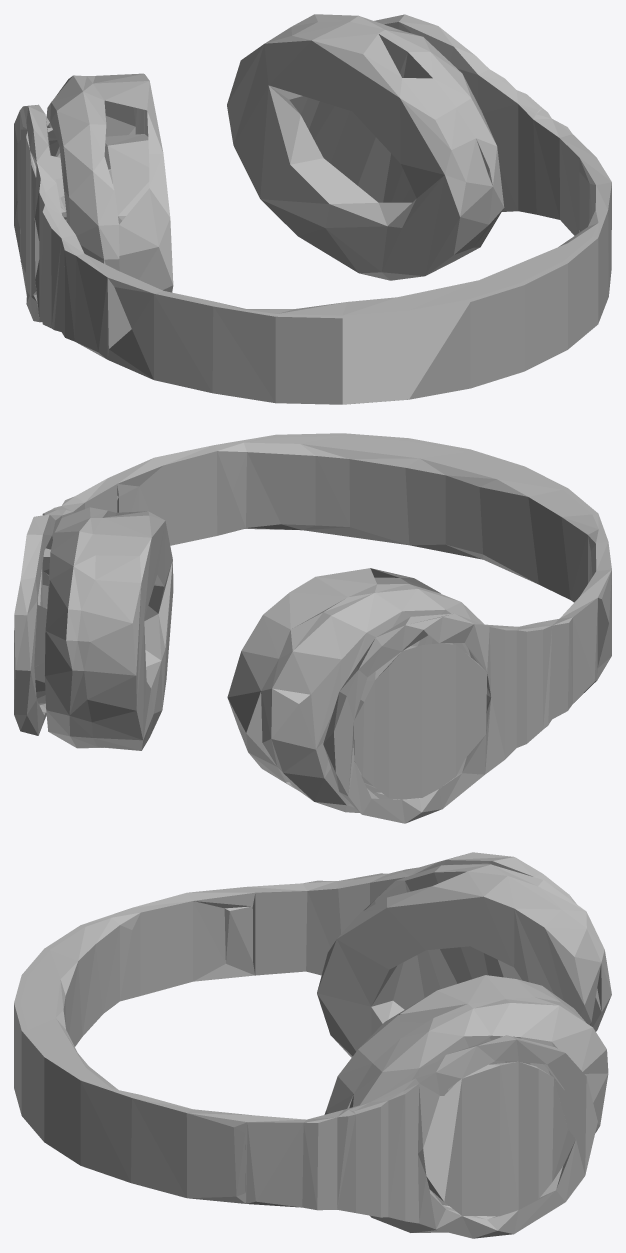
Rendered from model_align.obj.
3 renders of one model, top to bottom at view 1: azimuth 30°, elevation 25°; view 2: azimuth 150°, elevation 25°; view 3: azimuth 270°, elevation 25°, orthographic.
Size of the model in its own units: 0.1537 by 0.0655 by 0.1601.
Materials: 12 (12 with a texture image).
